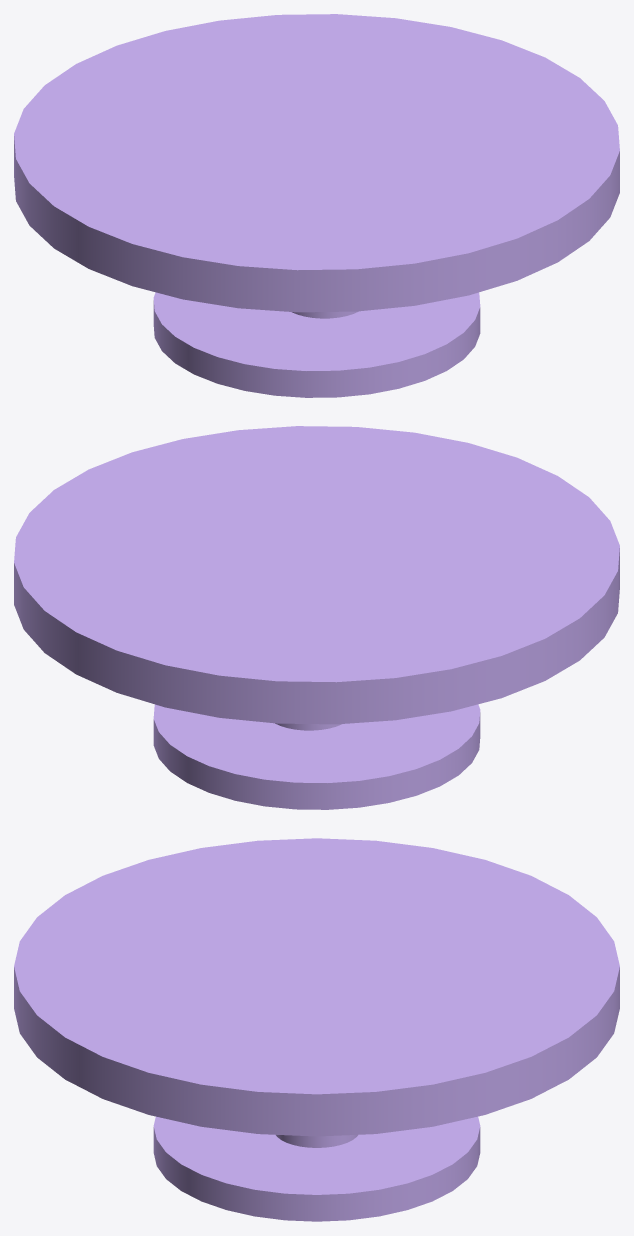
Rendered from 원형책상.fbx.
3 views of the same model, one above another, from view 1: azimuth 30°, elevation 25°; view 2: azimuth 150°, elevation 25°; view 3: azimuth 270°, elevation 25° (orthographic).
Visible parts, largest first — view 1: 책상.003, 발판.003; view 2: 책상.003, 발판.003; view 3: 책상.003, 발판.003, 기둥.003.
Boxes of the visible parts, <box> form: 책상.003: <box>14,14,619,312</box>; 발판.003: <box>153,292,480,397</box>; 책상.003: <box>14,426,619,724</box>; 발판.003: <box>153,704,480,809</box>; 책상.003: <box>14,838,619,1136</box>; 발판.003: <box>153,1116,480,1221</box>; 기둥.003: <box>276,1135,357,1147</box>.
Size of the model in its own units: 618 by 215 by 618.
